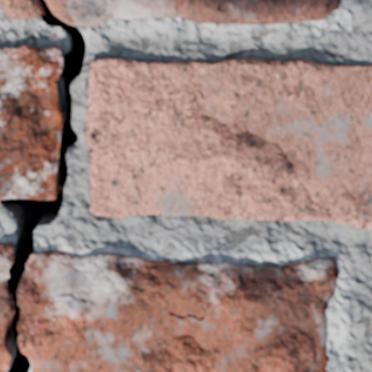brick: (86, 59, 371, 228), (0, 47, 63, 198)
broken_brick: (19, 250, 339, 371), (50, 0, 341, 27), (0, 244, 13, 371), (0, 0, 39, 20)
crack: (0, 0, 88, 371)
